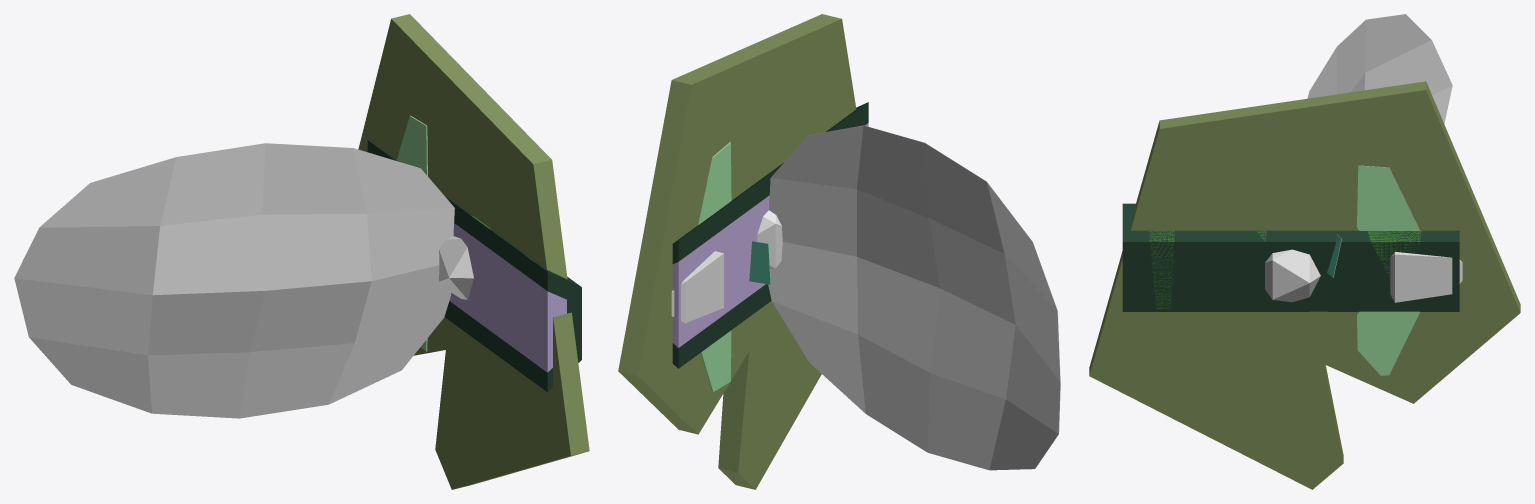
Rendered from Ingredients.fbx.
The picture shows the model from 3 angles, left to right: view 1: azimuth 30°, elevation 25°; view 2: azimuth 150°, elevation 25°; view 3: azimuth 270°, elevation 25°; orthographic projection. The views are drawn at different scales.
Parts seen in each view (by area): view 1: Cradle Plant Leaf, Pond Boat, Bark Sample, Sweet Berry, Bark Sample 2, Pearl Cap Slice; view 2: Cradle Plant Leaf, Pond Boat, Bark Sample, Pearl Cap Slice, Brightshroom Spore, Bark Sample 2, Sweet Berry; view 3: Pond Boat, Bark Sample, Bark Sample 2, Cradle Plant Leaf, Pearl Cap Slice, Brightshroom Spore, Sweet Berry.
Boxes of the visible parts, x1=… form: Cradle Plant Leaf: x1=14, y1=143, x2=454, y2=418; Pond Boat: x1=358, y1=14, x2=589, y2=489; Bark Sample: x1=367, y1=140, x2=581, y2=391; Sweet Berry: x1=439, y1=236, x2=473, y2=299; Bark Sample 2: x1=368, y1=141, x2=577, y2=391; Pearl Cap Slice: x1=397, y1=115, x2=427, y2=351; Cradle Plant Leaf: x1=768, y1=125, x2=1060, y2=470; Pond Boat: x1=618, y1=14, x2=856, y2=489; Bark Sample: x1=672, y1=102, x2=868, y2=368; Pearl Cap Slice: x1=698, y1=142, x2=731, y2=391; Brightshroom Spore: x1=671, y1=251, x2=723, y2=323; Bark Sample 2: x1=679, y1=102, x2=868, y2=368; Sweet Berry: x1=749, y1=210, x2=782, y2=284; Pond Boat: x1=1089, y1=81, x2=1520, y2=489; Bark Sample: x1=1122, y1=203, x2=1459, y2=311; Bark Sample 2: x1=1122, y1=203, x2=1459, y2=311; Cradle Plant Leaf: x1=1307, y1=14, x2=1452, y2=123; Pearl Cap Slice: x1=1357, y1=165, x2=1419, y2=375; Brightshroom Spore: x1=1390, y1=251, x2=1462, y2=302; Sweet Berry: x1=1265, y1=234, x2=1341, y2=302.
Bounding box in the file's own units: 1077 × 1062 × 1037.
